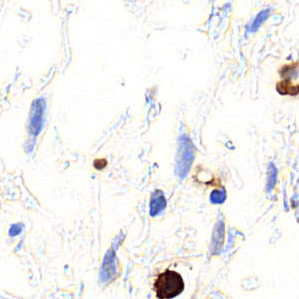Lymphocyte: (150, 269, 185, 299)
